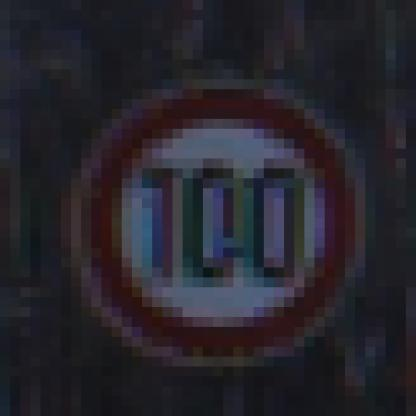Speed Limit 100: (84, 83, 357, 361)
